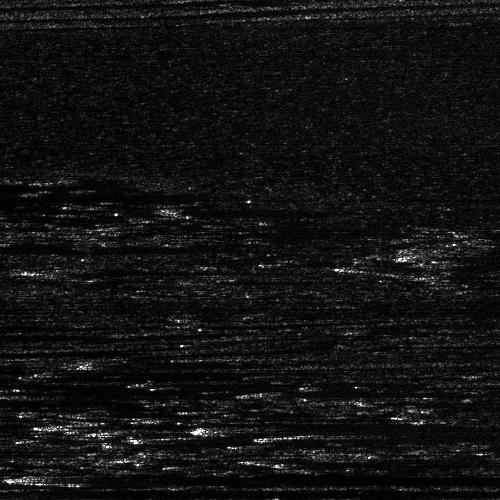object: (165, 377, 332, 404), (133, 418, 310, 435), (0, 470, 78, 481), (250, 430, 323, 441), (28, 265, 111, 274), (239, 459, 312, 468), (60, 359, 143, 366), (0, 383, 35, 398), (400, 253, 453, 262), (16, 369, 57, 378), (157, 205, 198, 214), (38, 420, 79, 427), (135, 497, 188, 500), (0, 242, 13, 251), (0, 345, 8, 356)
shadow: (0, 485, 500, 496), (21, 470, 500, 481), (248, 377, 402, 404), (0, 474, 285, 485), (0, 383, 193, 398), (221, 418, 376, 435), (0, 242, 245, 251), (70, 265, 284, 274), (0, 237, 146, 250), (0, 390, 137, 401), (37, 369, 183, 378), (178, 205, 324, 214), (0, 391, 60, 412), (0, 345, 109, 356), (102, 359, 250, 366), (287, 430, 364, 441), (276, 459, 353, 468), (427, 253, 500, 262), (59, 420, 132, 427), (0, 181, 101, 186), (161, 497, 240, 500), (0, 185, 30, 188)
